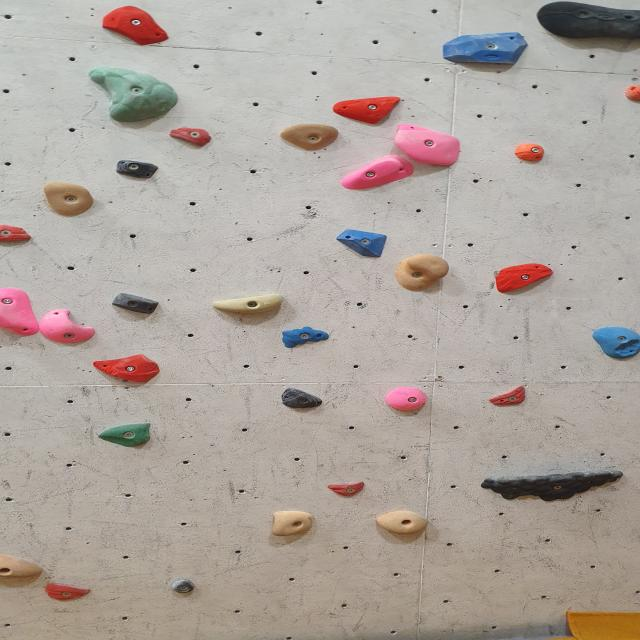Crimp: (443, 29, 529, 64), (338, 154, 410, 192), (102, 6, 169, 46), (97, 351, 159, 382), (334, 94, 406, 120), (494, 263, 548, 293), (275, 387, 326, 409), (44, 580, 94, 602), (170, 125, 213, 145), (327, 480, 374, 496), (0, 226, 41, 244), (491, 384, 526, 405)
Jug: (478, 467, 623, 502), (393, 125, 467, 167), (277, 120, 346, 150), (396, 253, 452, 289), (376, 507, 434, 536), (42, 310, 92, 343), (45, 184, 90, 215), (270, 508, 315, 537)
Pinch: (212, 290, 285, 317), (0, 552, 46, 579), (112, 291, 160, 315), (383, 385, 425, 411), (119, 158, 160, 177), (515, 140, 548, 162), (618, 83, 640, 105), (171, 581, 195, 594)
Sloper: (91, 64, 175, 122), (532, 0, 640, 39), (588, 320, 640, 361), (0, 289, 42, 335), (337, 226, 388, 258), (96, 423, 152, 446), (278, 326, 329, 348)
